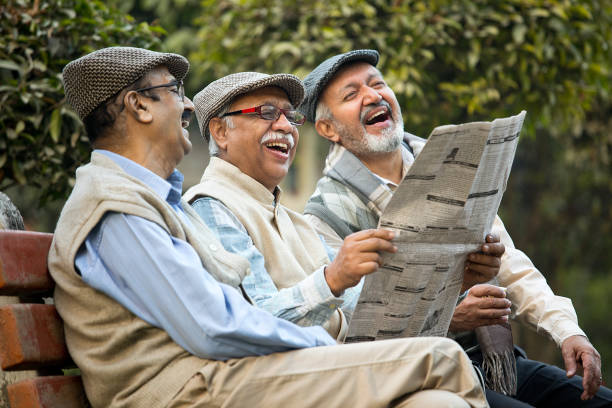13: (0, 227, 90, 403)
27: (167, 168, 183, 204)
73: (375, 115, 525, 251)
handguns: (85, 79, 612, 403), (45, 45, 453, 403), (252, 94, 608, 402), (173, 67, 512, 371), (294, 46, 561, 389), (179, 70, 388, 319), (180, 71, 334, 293), (458, 212, 607, 402), (300, 52, 419, 245), (0, 189, 27, 231)
